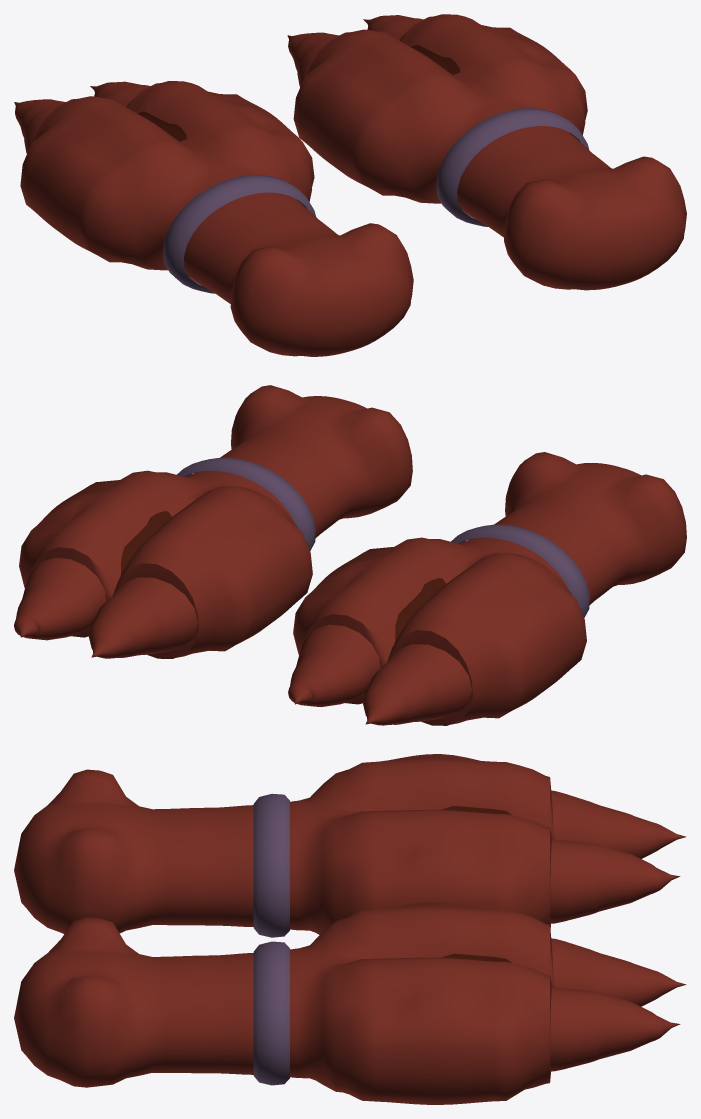
The model's file is claws.glb.
3 renders of one model, top to bottom at view 1: azimuth 30°, elevation 25°; view 2: azimuth 150°, elevation 25°; view 3: azimuth 270°, elevation 25°, orthographic. The views are drawn at different scales.
Parts seen in each view (by area): view 1: claw_body_r, claw_body, claw_band_r, claw_band, claw_finger_outer, claw_finger_outer_r, claw_finger_inner, claw_finger_inner_r; view 2: claw_body_r, claw_body, claw_finger_outer_r, claw_finger_outer, claw_finger_inner, claw_finger_inner_r, claw_band, claw_band_r; view 3: claw_body_r, claw_body, claw_finger_inner, claw_finger_inner_r, claw_band_r, claw_band, claw_finger_outer_r, claw_finger_outer.
Part boxes in pixels (x1,y1,x2,y2): claw_body_r: [293, 14, 686, 290]; claw_body: [20, 81, 413, 356]; claw_band_r: [436, 108, 589, 226]; claw_band: [163, 175, 315, 293]; claw_finger_outer: [14, 99, 65, 153]; claw_finger_outer_r: [287, 32, 338, 87]; claw_finger_inner: [90, 81, 150, 106]; claw_finger_inner_r: [363, 15, 423, 40]; claw_body_r: [19, 385, 412, 658]; claw_body: [293, 452, 686, 725]; claw_finger_outer_r: [88, 577, 197, 658]; claw_finger_outer: [363, 644, 471, 725]; claw_finger_inner: [288, 624, 380, 707]; claw_finger_inner_r: [14, 557, 106, 640]; claw_band: [451, 524, 589, 617]; claw_band_r: [177, 457, 315, 550]; claw_body_r: [14, 901, 554, 1104]; claw_body: [14, 754, 554, 934]; claw_finger_inner: [550, 839, 680, 923]; claw_finger_inner_r: [550, 987, 680, 1071]; claw_band_r: [253, 941, 289, 1085]; claw_band: [253, 793, 289, 937]; claw_finger_outer_r: [551, 938, 686, 1006]; claw_finger_outer: [551, 790, 686, 858].
Size of the model in its own units: 22.24 by 5.32 by 23.1.
